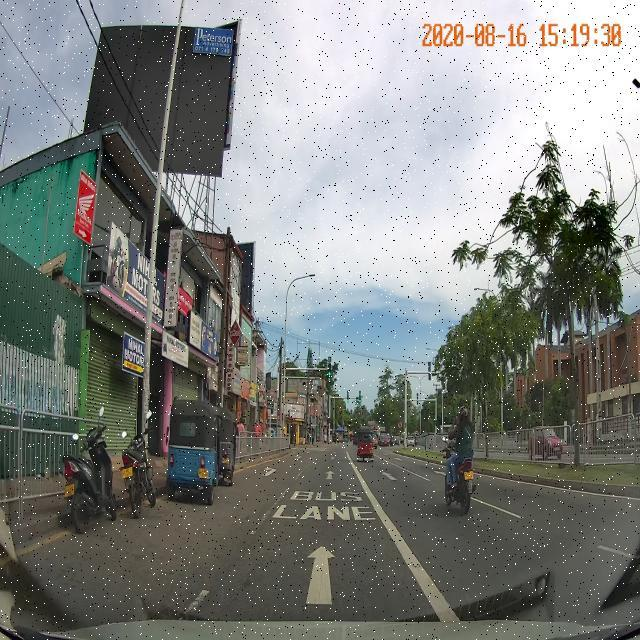forward: (182, 525, 470, 617)
